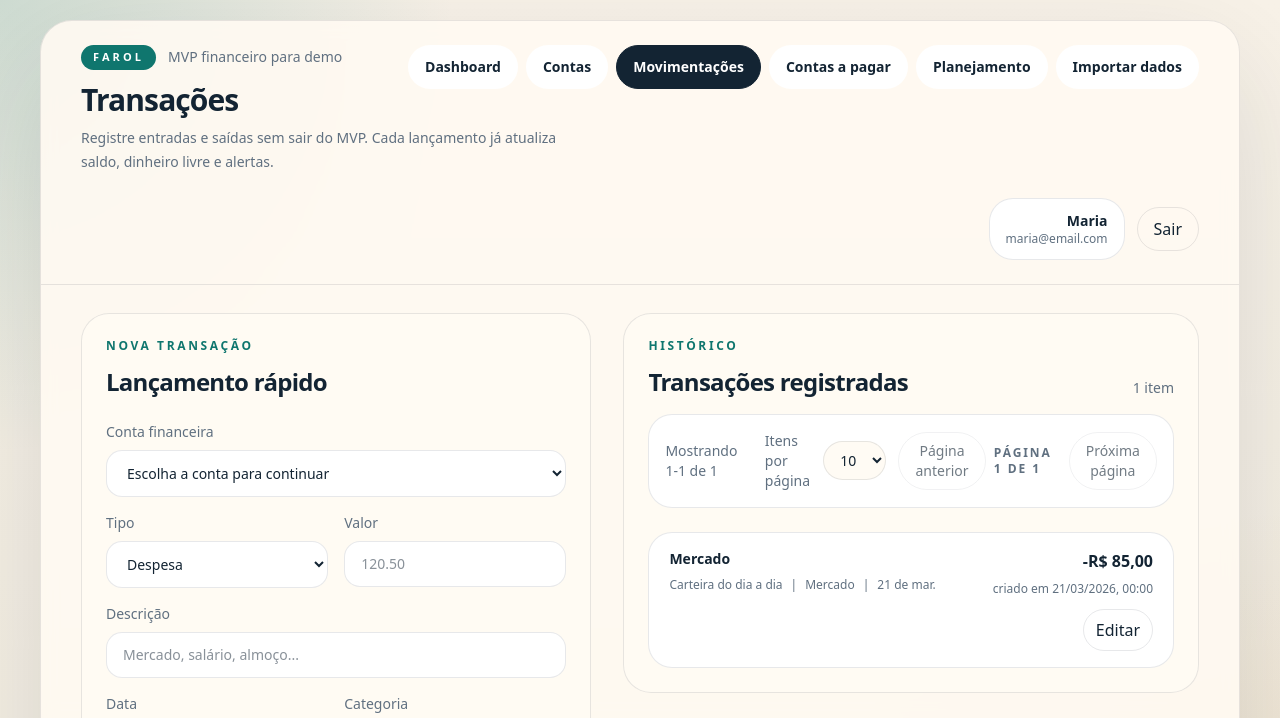
Test: TransactionsPage › Transactions_EditTransaction_PopulatesFormAndSavesUpdate
Click the button "Editar" at (1118, 630), box [1083, 608, 1153, 650]
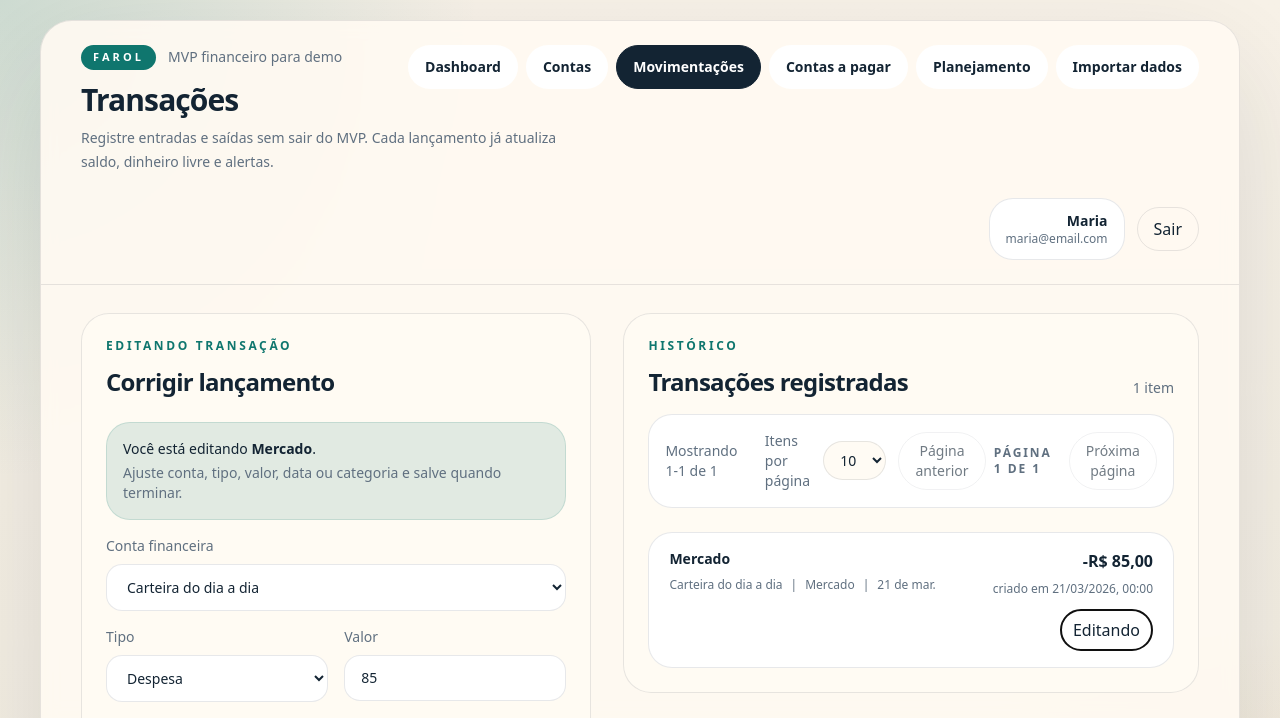
expect the text "Editando transação" is shown: met, box [106, 336, 292, 354]
expect the dropdown labelled "Conta financeira" shows "Carteira do dia a dia": met, box [106, 564, 566, 610]
Replace the text in the number field labelled "Valor" with "120" at (455, 678), box [344, 654, 566, 700]
(page scrolled)
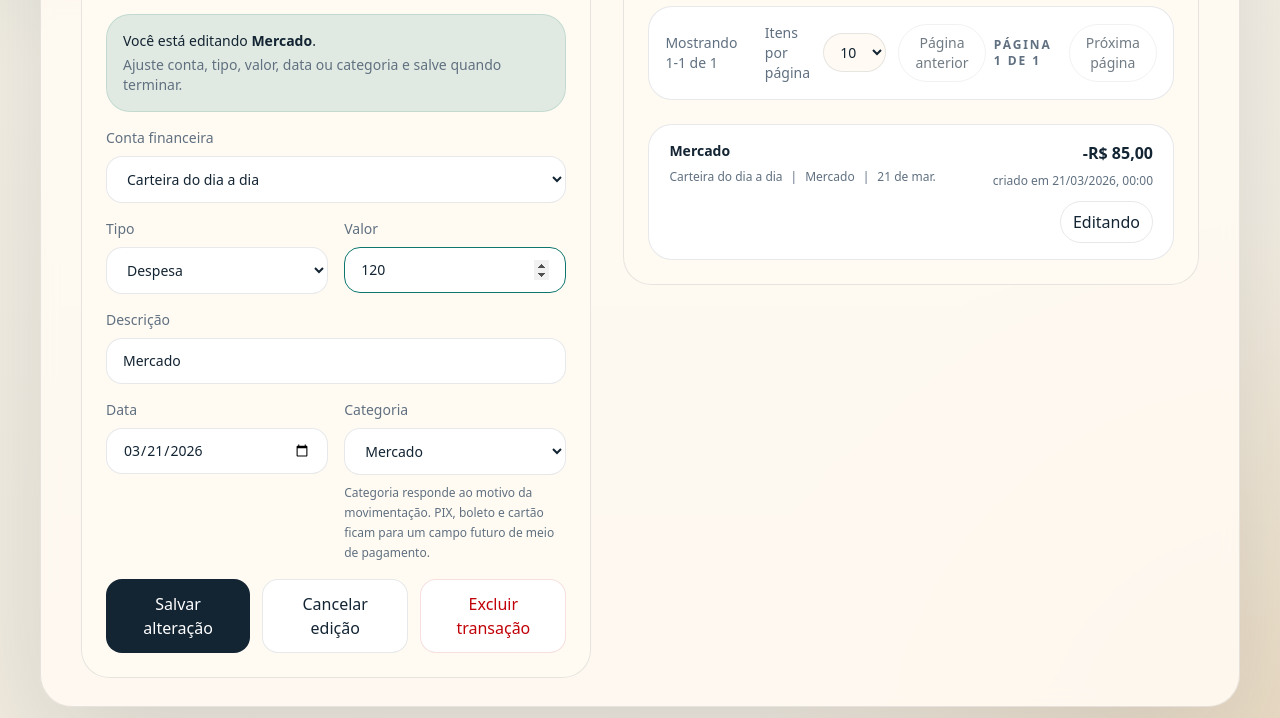
Replace the text in the field labelled "Descrição" with "Mercado da semana" at (336, 360), box [106, 338, 566, 384]
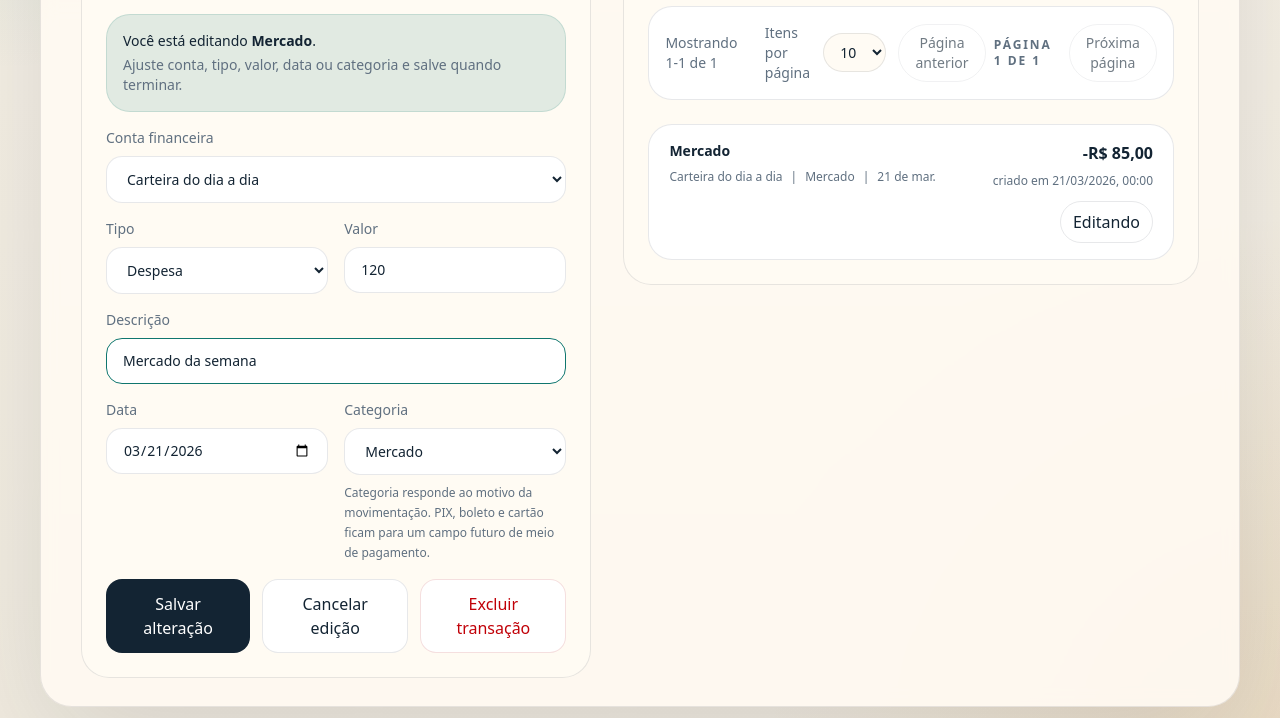
Click the button "Salvar alteração" at (178, 616), box [106, 578, 250, 652]
(page scrolled)
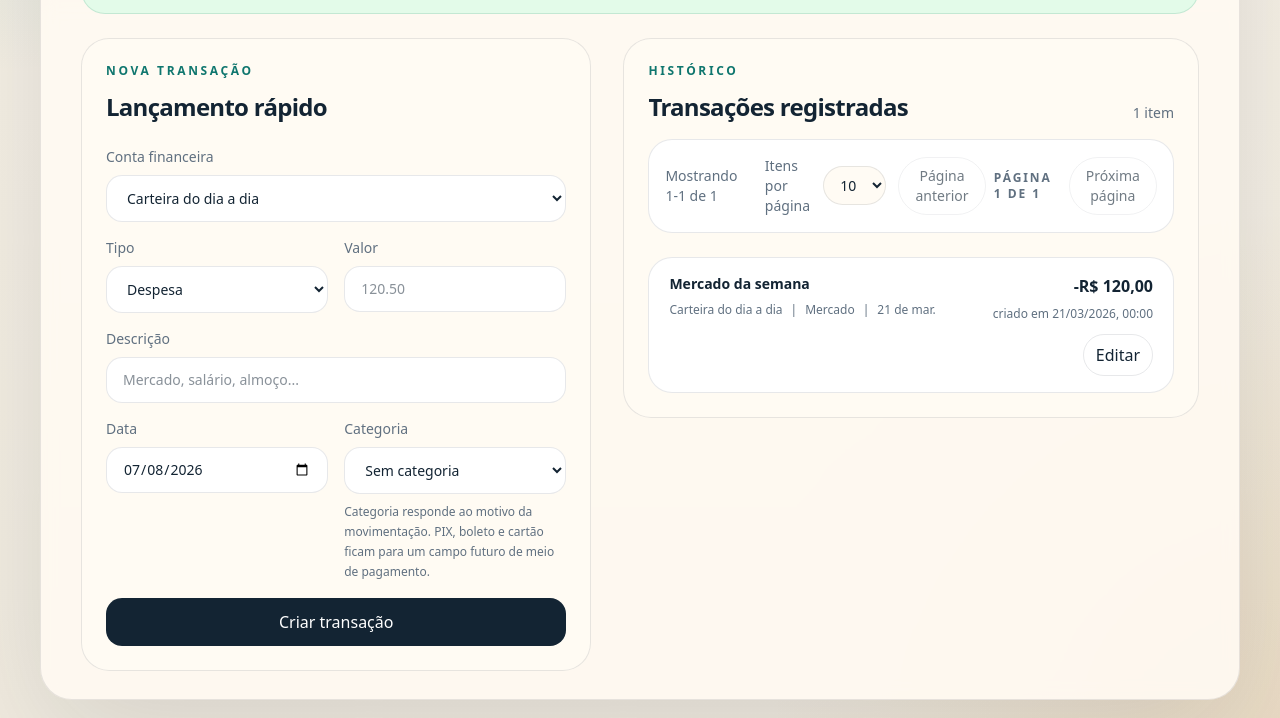
expect the button "Criar transação" is shown: met, box [106, 598, 566, 646]
